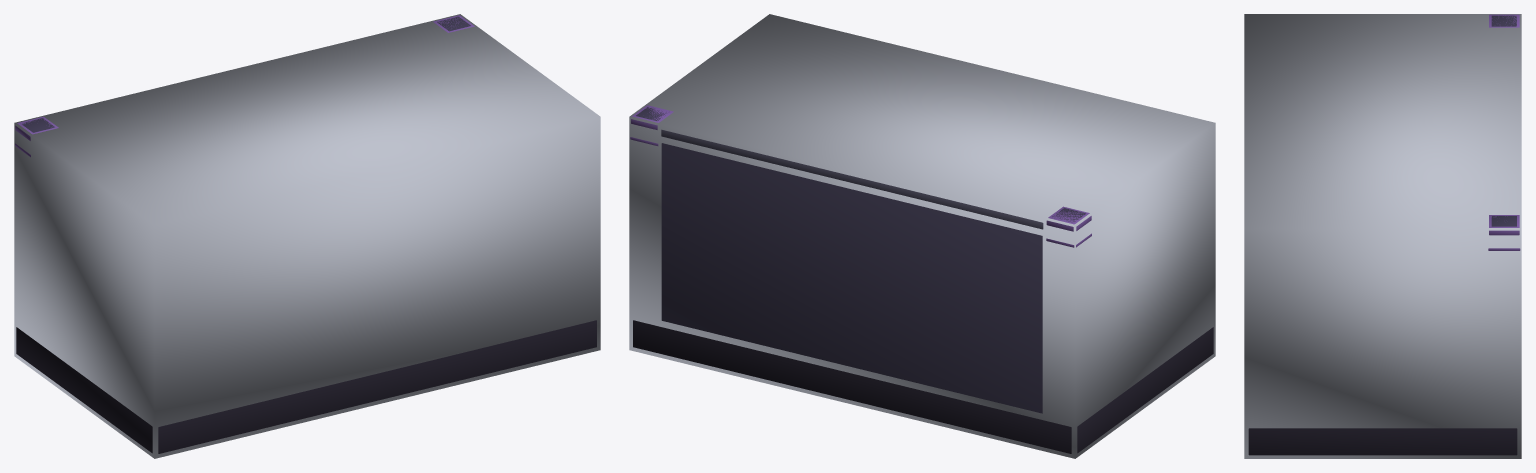
Rendered from Tier_04.fbx.
The picture shows the model from 3 angles, left to right: view 1: azimuth 30°, elevation 25°; view 2: azimuth 150°, elevation 25°; view 3: azimuth 270°, elevation 25°; orthographic projection.
Visible parts, largest first — view 1: Root, Dark, Body, Purple; view 2: Root, Plaster, Dark, Metal, Purple; view 3: Root, Dark, Purple, Body.
Part boxes in pixels (x1,y1,x2,y2): Root: [14, 14, 600, 458]; Dark: [16, 320, 596, 453]; Body: [22, 16, 470, 132]; Purple: [15, 15, 474, 157]; Root: [629, 14, 1215, 458]; Plaster: [661, 143, 1042, 413]; Dark: [633, 320, 1213, 453]; Metal: [661, 129, 1043, 229]; Purple: [630, 105, 1091, 247]; Root: [1244, 14, 1521, 458]; Dark: [1248, 428, 1517, 455]; Purple: [1488, 14, 1520, 250]; Body: [1491, 15, 1516, 226].
Size of the model in its own units: 44 by 22 by 24.
